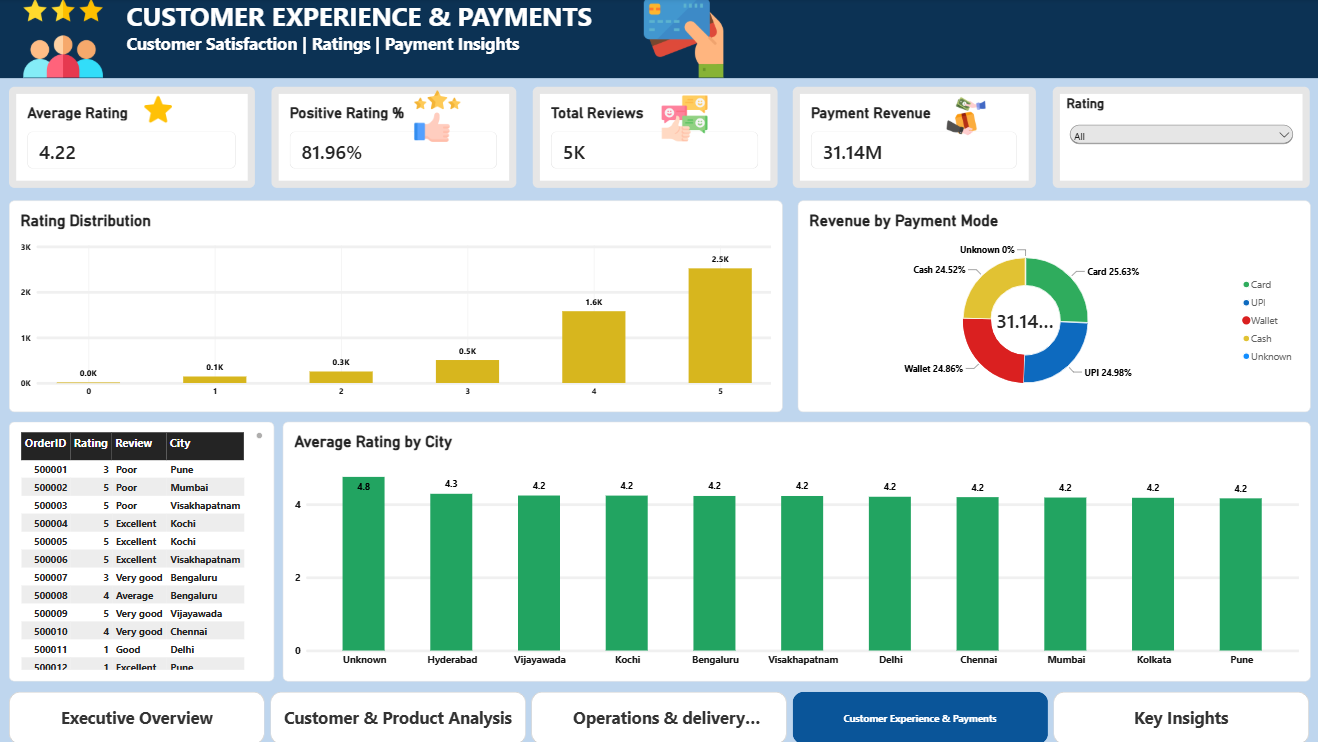

What the dashboard file says about the page in this screenshot:
{"tool":"powerbi","page":{"name":"Customer Experience & Payments","canvas":[1920,1080],"ordinal":3},"visuals":[{"type":"cardVisual","title":"Average Rating","fields":{"Data":["__Measures.Average Rating"]},"box":[14,128,356,146],"z":0},{"type":"clusteredColumnChart","title":"Rating Distribution","fields":{"Category":["Ratings.Rating"],"Y":["CountNonNull(Ratings.RatingID)"]},"box":[14,294,1120,306],"z":1000},{"type":"clusteredColumnChart","title":"Average Rating by City","fields":{"Category":["Customers.City"],"Y":["__Measures.Average Rating"]},"box":[410,614,1488,376],"z":2000},{"type":"donutChart","title":"Revenue by Payment Mode","fields":{"Category":["Transactions.PaymentMode"],"Y":["__Measures.Total Revenue"]},"box":[1156,294,742,306],"z":3000},{"type":"tableEx","title":"Customer Reviews","fields":{"Values":["Ratings.OrderID","Ratings.Rating","Ratings.Review","Customers.City"]},"box":[14,614,384,376],"z":4000},{"type":"shape","box":[0,0,1920,116],"z":5000},{"type":"textbox","box":[184,0,732,102],"z":6000},{"type":"image","box":[0,0,185,115],"z":7000},{"type":"image","box":[917.5,0,147.5,115],"z":8000},{"type":"cardVisual","title":"Total Reviews","fields":{"Data":["__Measures.Total Reviews"]},"box":[772,128,354,146],"z":9000},{"type":"cardVisual","title":"Payment Revenue","fields":{"Data":["__Measures.Total Revenue"]},"box":[1150,128,352,146],"z":10000},{"type":"cardVisual","title":"Positive Rating %","fields":{"Data":["__Measures.Positive Rating %"]},"box":[394,128,354,146],"z":11000},{"type":"image","box":[576,134,118,74],"z":12000},{"type":"image","box":[186,142,88,40],"z":13000},{"type":"image","box":[920,142,146,66],"z":14000},{"type":"image","box":[1358,142,86,60],"z":15000},{"type":"shape","box":[1526,128,372,146],"z":16000},{"type":"slicer","title":"Rating","fields":{"Values":["Ratings.Rating"]},"box":[1545.5,141.2,333,132.1],"z":17000},{"type":"pageNavigator","box":[14,1004,1884,76],"z":18000}]}

Visuals, with their boxes in screenshot pixels (x1, y1, x2, y2), scaled from the page's 1920x1080 canvas onto the 1318x742 screenshot:
"Average Rating" cardVisual: (10,88,254,188)
"Rating Distribution" clusteredColumnChart: (10,202,778,412)
"Average Rating by City" clusteredColumnChart: (281,422,1303,680)
"Revenue by Payment Mode" donutChart: (794,202,1303,412)
"Customer Reviews" tableEx: (10,422,273,680)
shape: (0,0,1317,80)
textbox: (126,0,629,70)
image: (0,0,127,79)
image: (630,0,731,79)
"Total Reviews" cardVisual: (530,88,773,188)
"Payment Revenue" cardVisual: (789,88,1031,188)
"Positive Rating %" cardVisual: (270,88,513,188)
image: (395,92,476,143)
image: (128,98,188,125)
image: (632,98,732,143)
image: (932,98,991,139)
shape: (1048,88,1303,188)
"Rating" slicer: (1061,97,1290,188)
pageNavigator: (10,690,1303,741)
